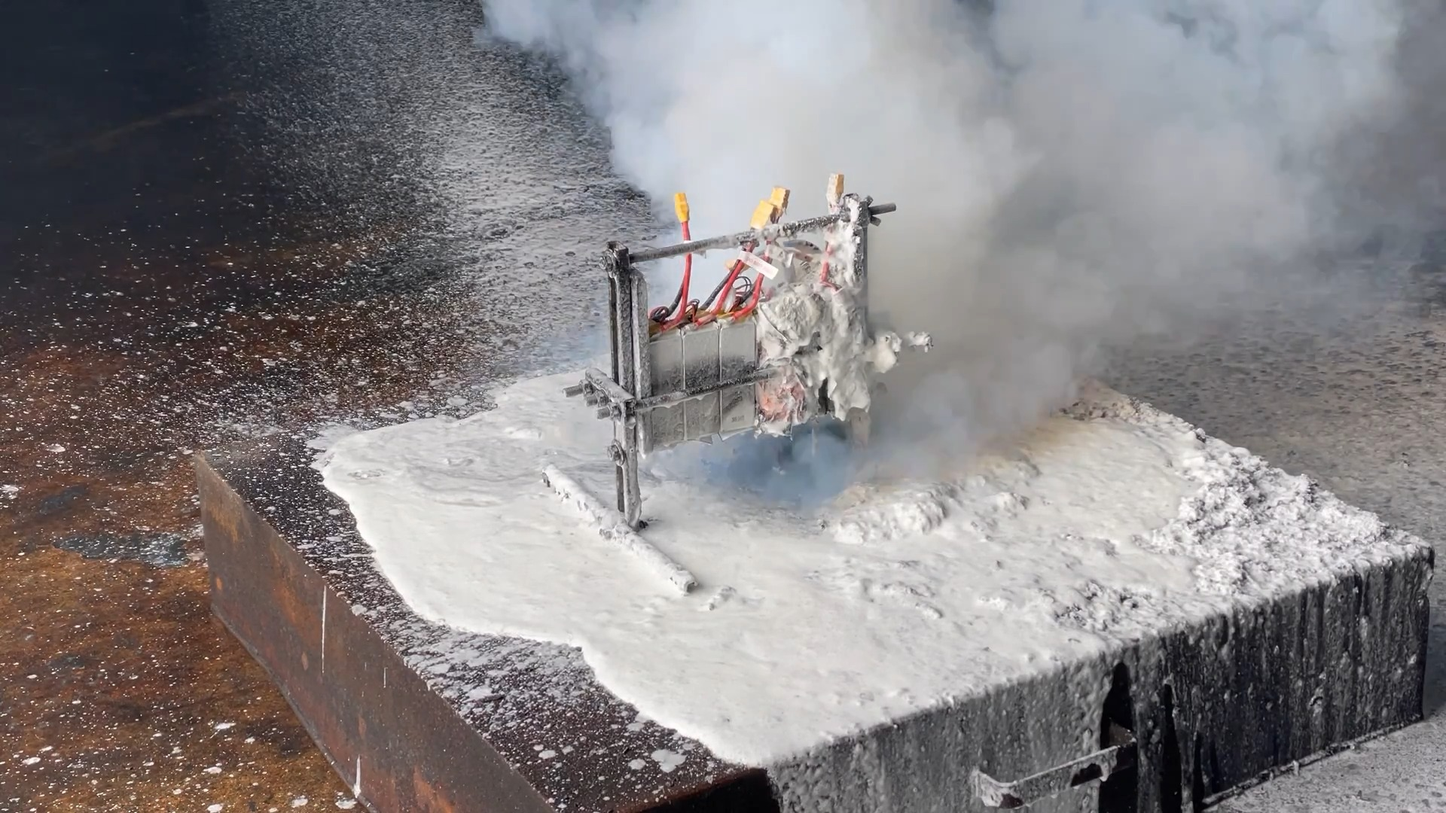smoke: (470, 0, 1446, 507)
